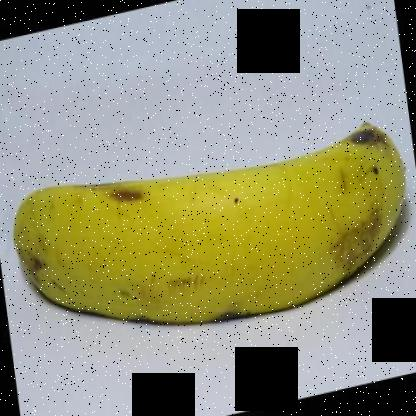freshripe: (1, 106, 413, 345)
